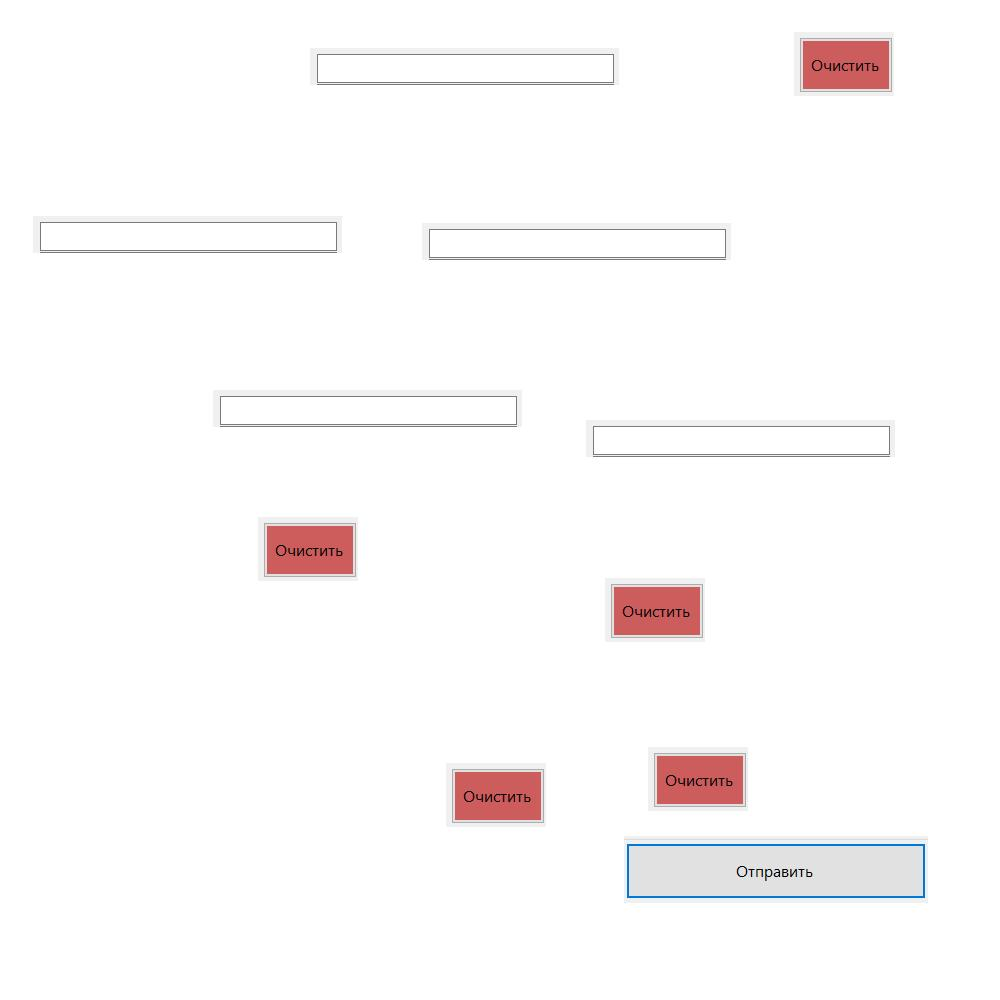Button: (624, 836, 928, 903), (605, 578, 705, 642), (794, 32, 894, 96), (648, 747, 748, 811), (446, 763, 546, 827), (258, 517, 358, 581)
EditText-: (310, 48, 619, 85), (586, 420, 895, 457), (33, 216, 342, 253), (213, 390, 522, 427), (422, 223, 731, 260)
